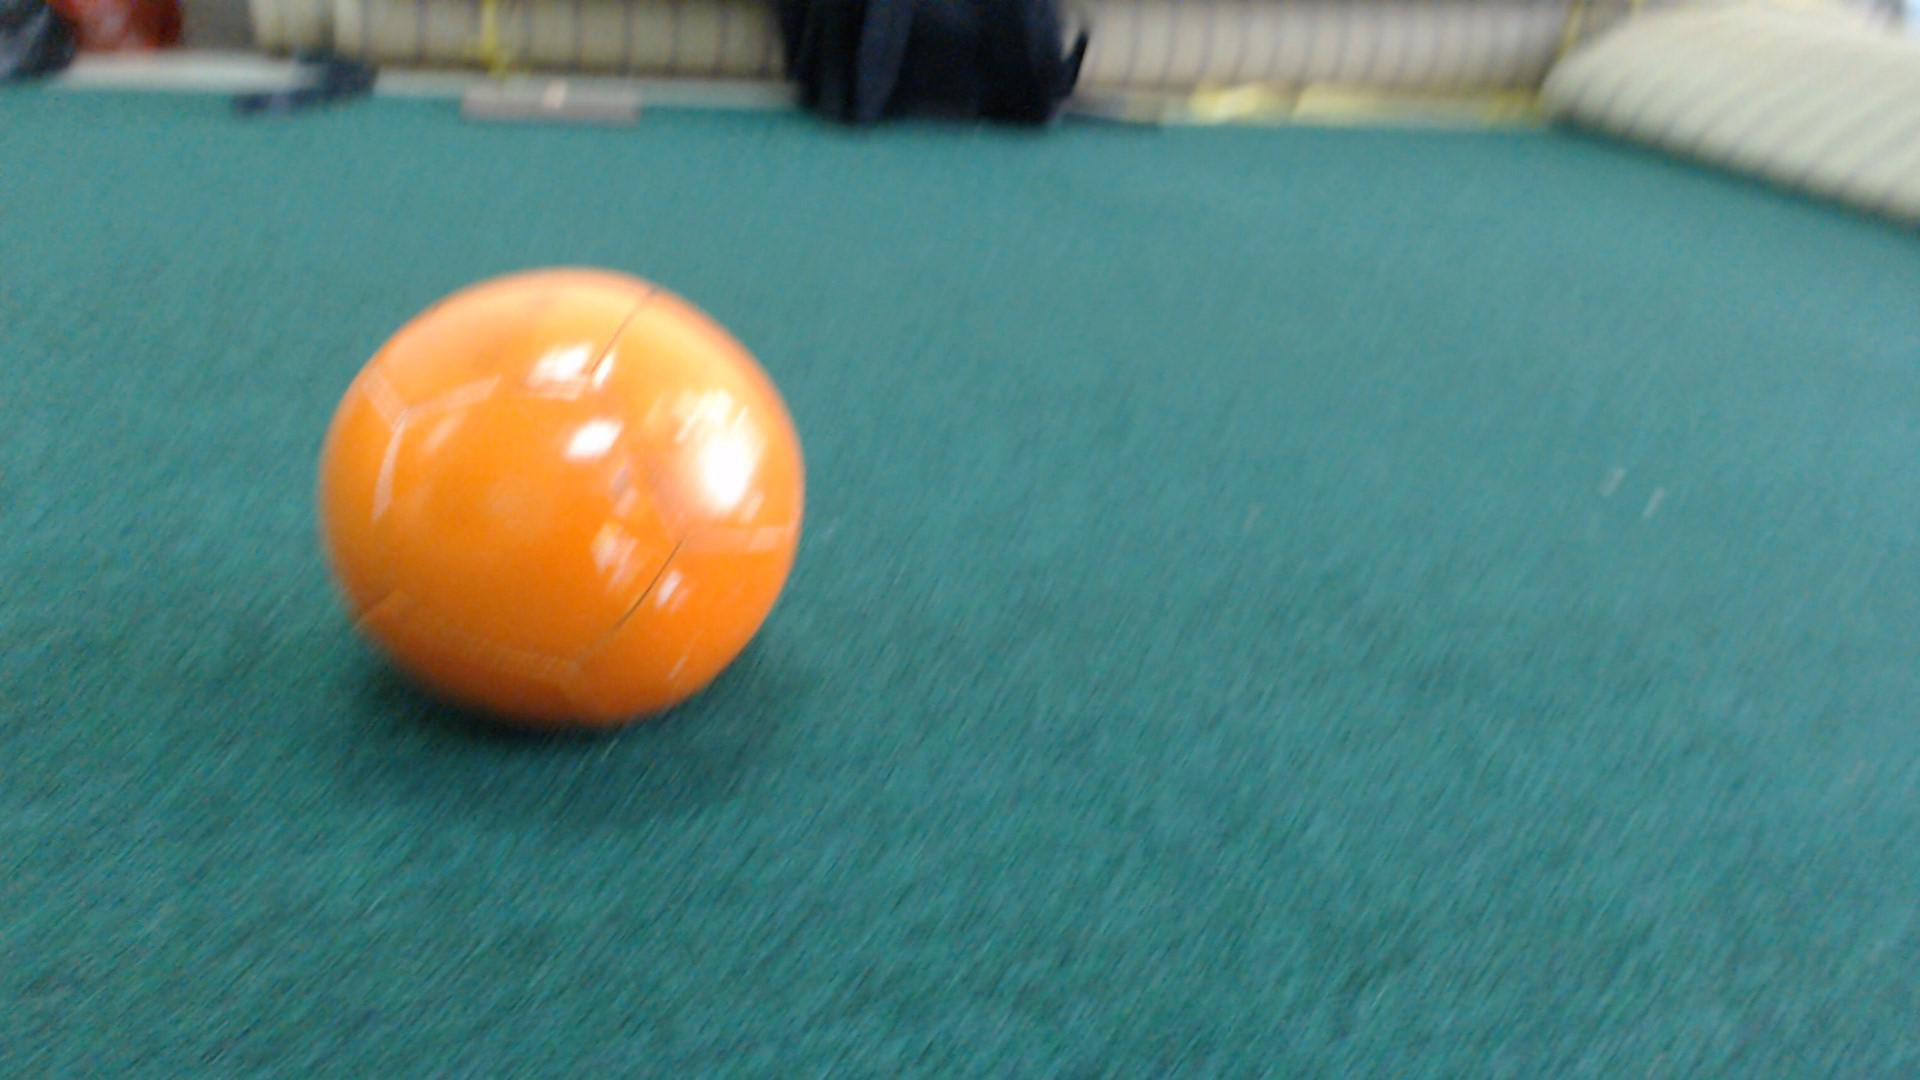bola: (298, 239, 827, 766)
